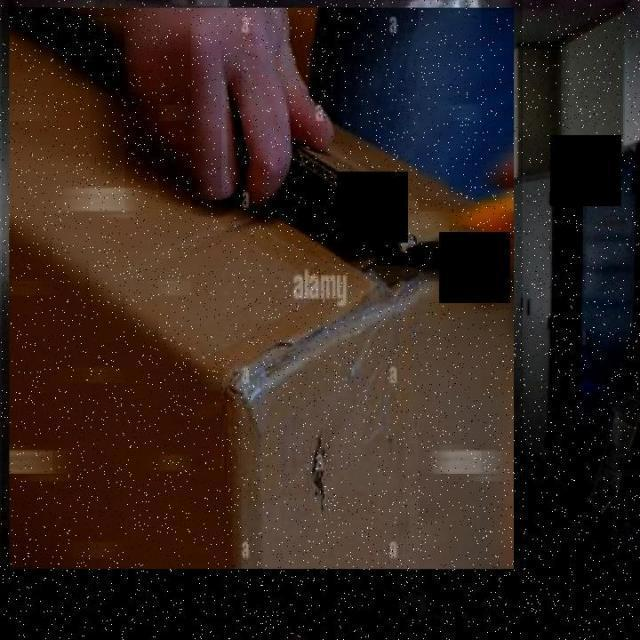box: (1, 0, 522, 579)
